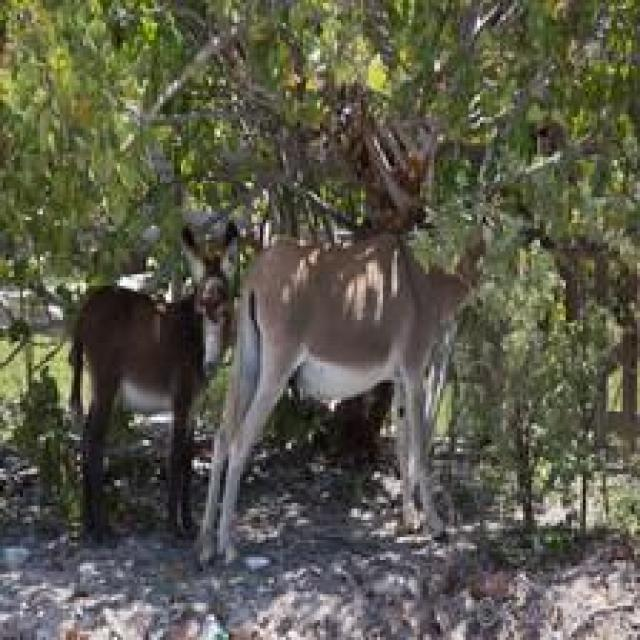Donkey: (192, 71, 614, 568), (66, 217, 240, 540)
